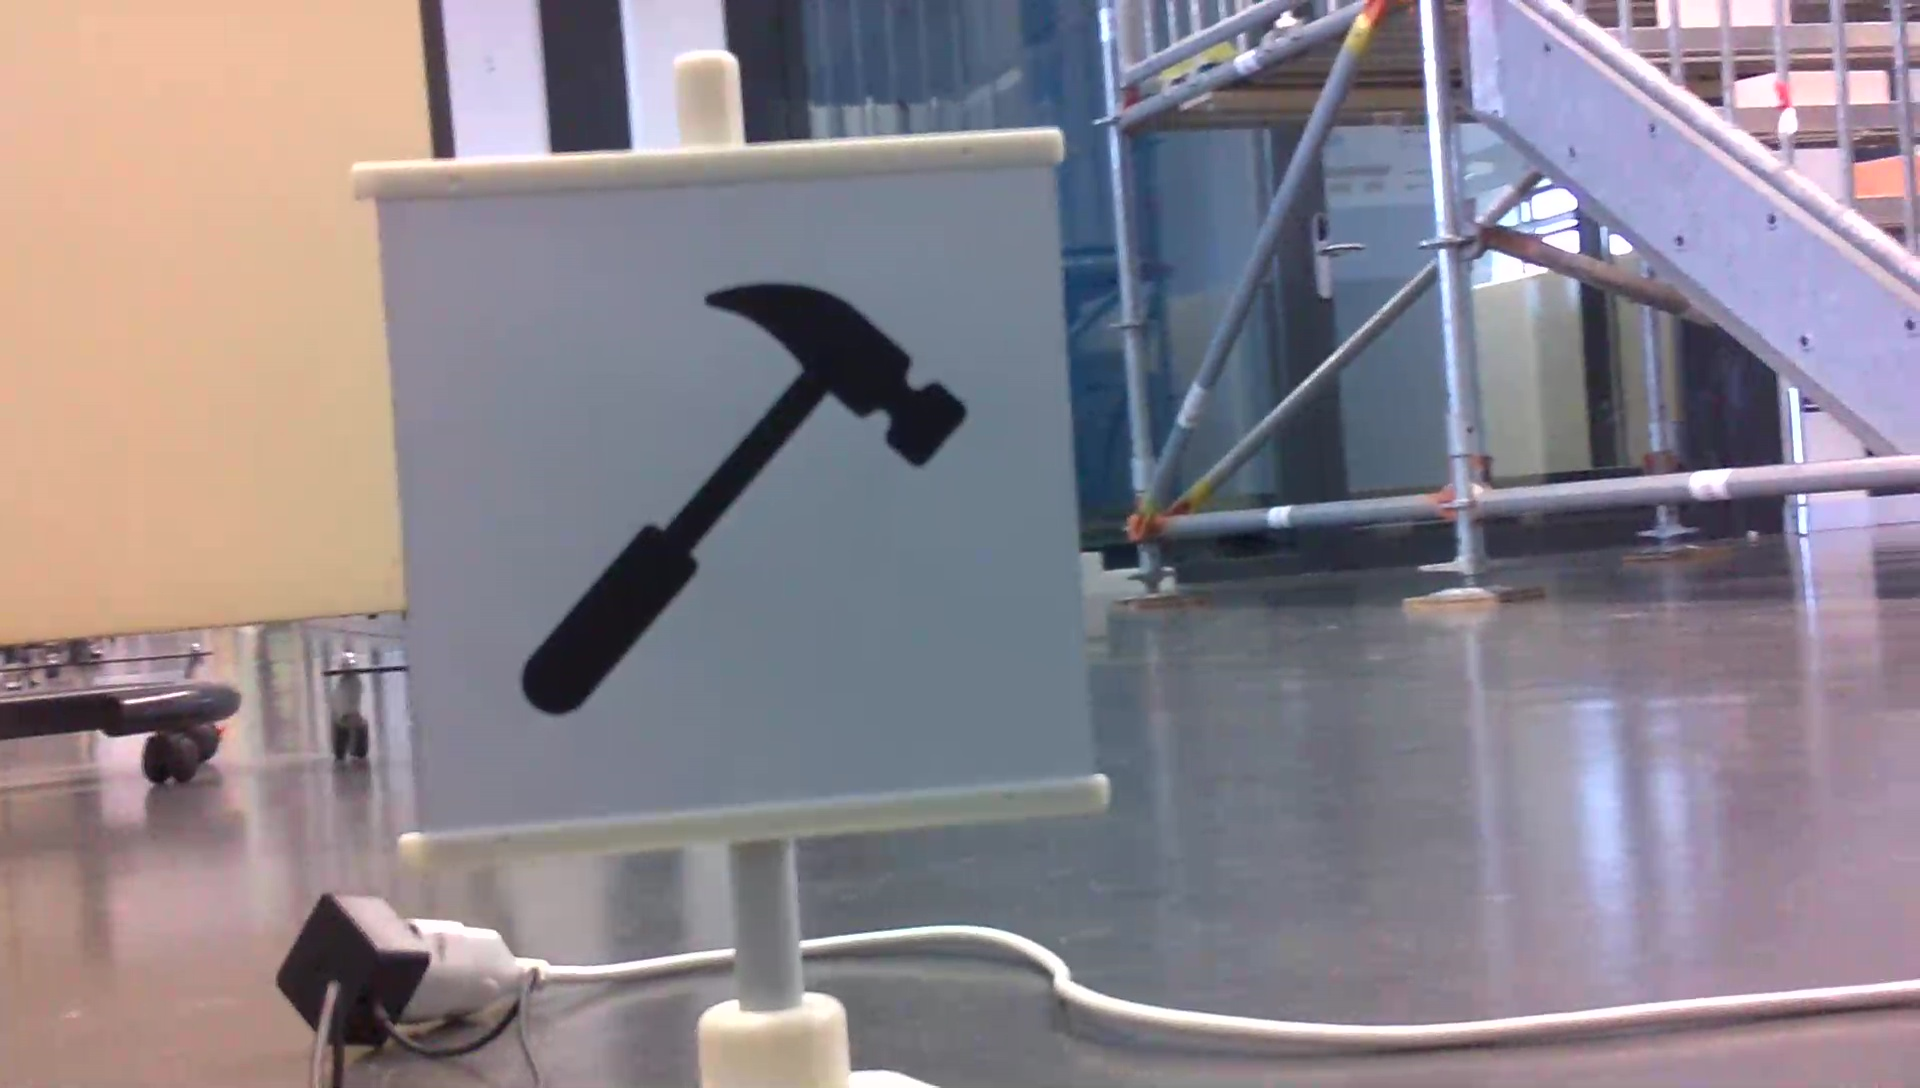hammer: (502, 273, 975, 723)
